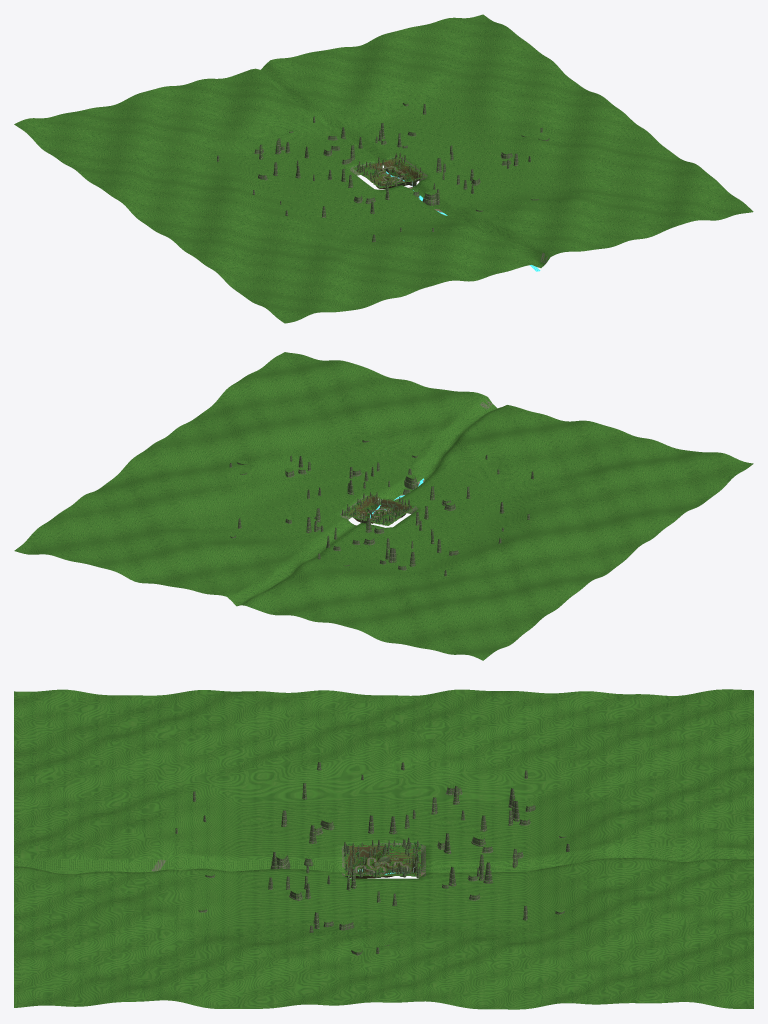
3 renders of one model, top to bottom at view 1: azimuth 30°, elevation 25°; view 2: azimuth 150°, elevation 25°; view 3: azimuth 270°, elevation 25°, orthographic. The views are drawn at different scales.
Visible parts, largest first — view 1: Far Land, Land, Far Rocks visual 0 -1, Far Rocks visual -1 0; view 2: Far Land, Far Rocks visual -1 0, Land, Far Rocks visual 0 -1; view 3: Far Land, Land, Far Rocks visual -1 0, Far Rocks visual 0 -1, Far Rocks visual 0 0, Far Rocks visual -1 -1.
Boxes of the visible parts, box(x1,y1,x2,y2) form: Far Land: box(14, 14, 753, 323); Land: box(353, 157, 426, 189); Far Rocks visual 0 -1: box(413, 127, 549, 211); Far Rocks visual -1 0: box(217, 116, 354, 194); Far Land: box(14, 352, 753, 660); Far Rocks visual -1 0: box(317, 511, 501, 576); Land: box(342, 494, 415, 525); Far Rocks visual 0 -1: box(229, 438, 418, 495); Far Land: box(14, 689, 753, 1009); Land: box(344, 844, 420, 878); Far Rocks visual -1 0: box(389, 762, 569, 858); Far Rocks visual 0 -1: box(198, 851, 389, 955); Far Rocks visual 0 0: box(392, 848, 564, 920); Far Rocks visual -1 -1: box(175, 761, 374, 843).
Size of the model in its own units: 6800 by 304 by 6800.
Materials: 50 (50 with a texture image).
